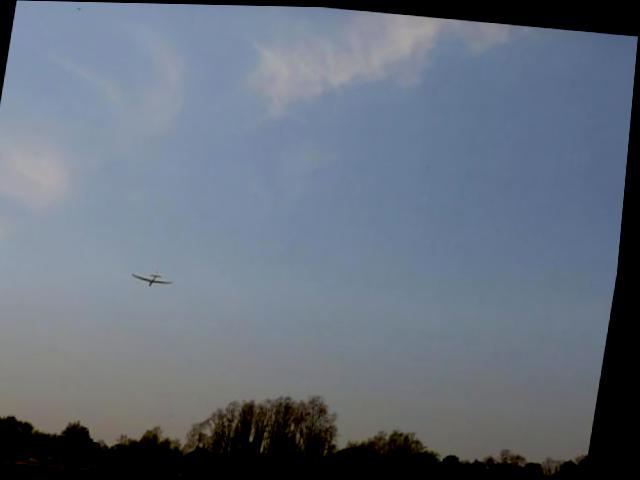iha: (133, 263, 186, 289)
